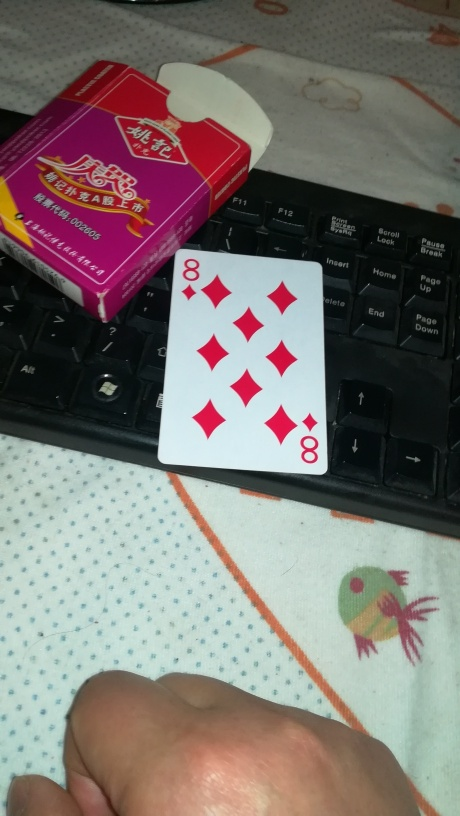fk 8: (155, 248, 328, 477)
